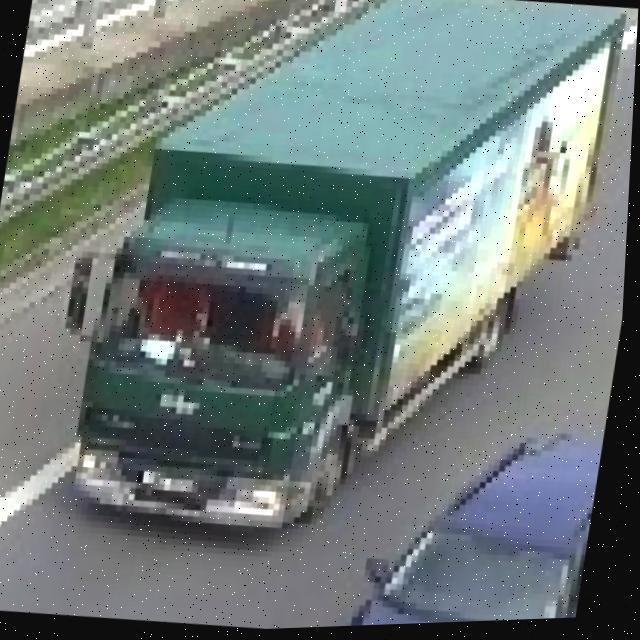truck: (45, 0, 636, 565)
